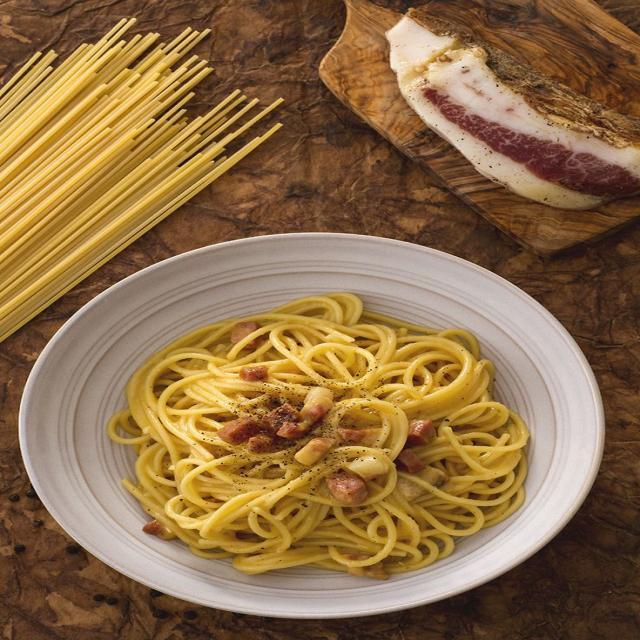Pasta with carbonara sauce: (63, 282, 543, 584)
